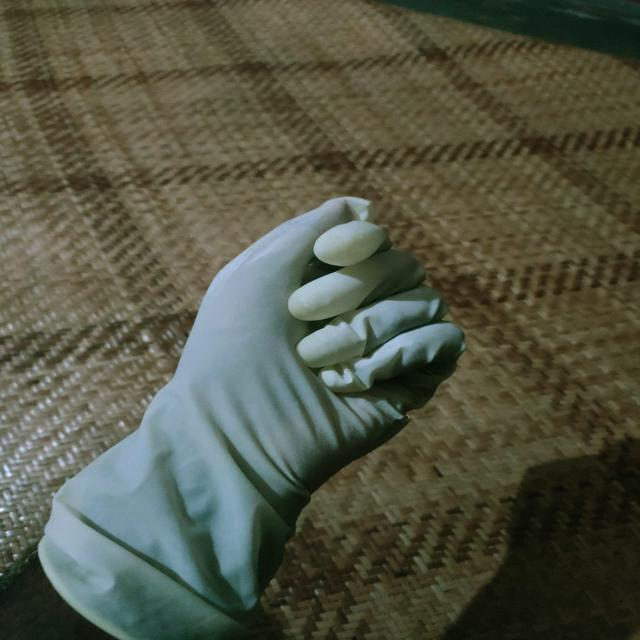glove_hand: (33, 194, 470, 639)
